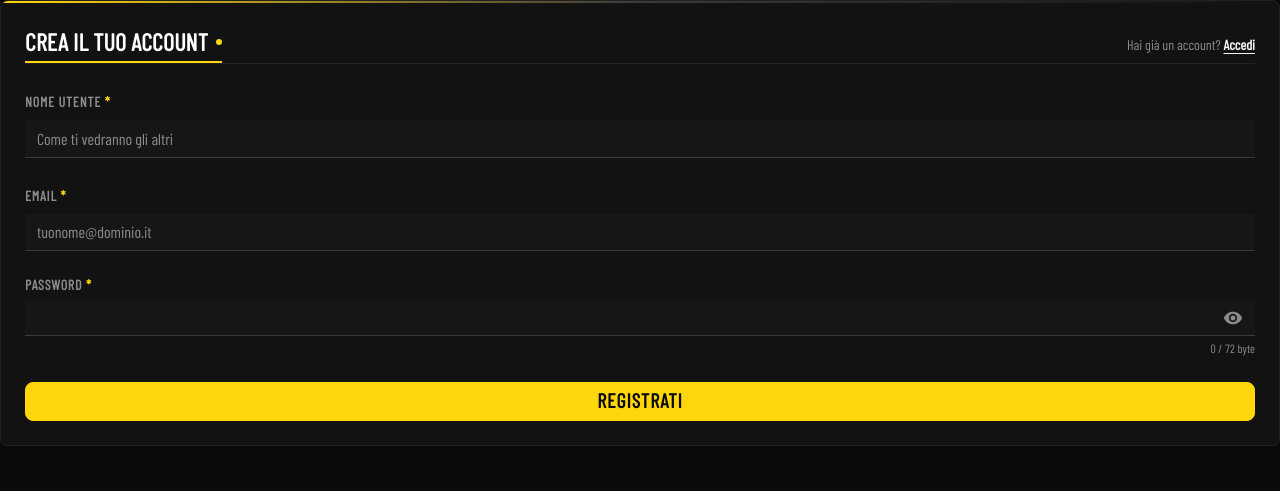
RegisterPage › un'emoji nel nome è bloccata: messaggio sotto il campo e nessuna richiesta
Type "Mario 🎸" into the field labelled "Nome utente" at (640,139), box [25,121,1255,158]
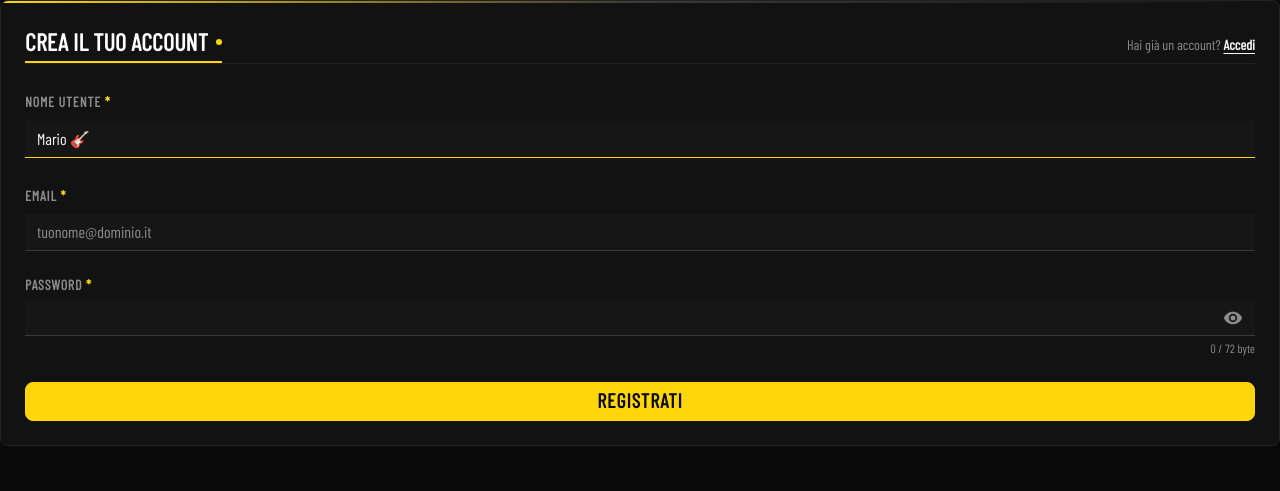
Type "mario@example.com" into the field labelled "Email" at (640,232), box [25,214,1255,251]
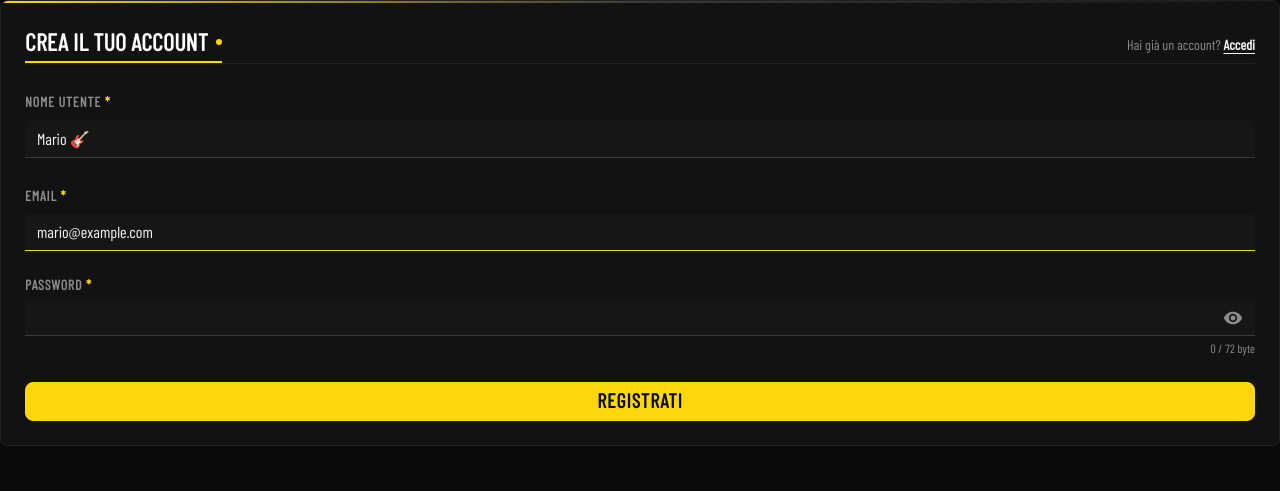
Type "password-lunga" into the password field labelled "Password" at (640,318), box [25,299,1255,336]
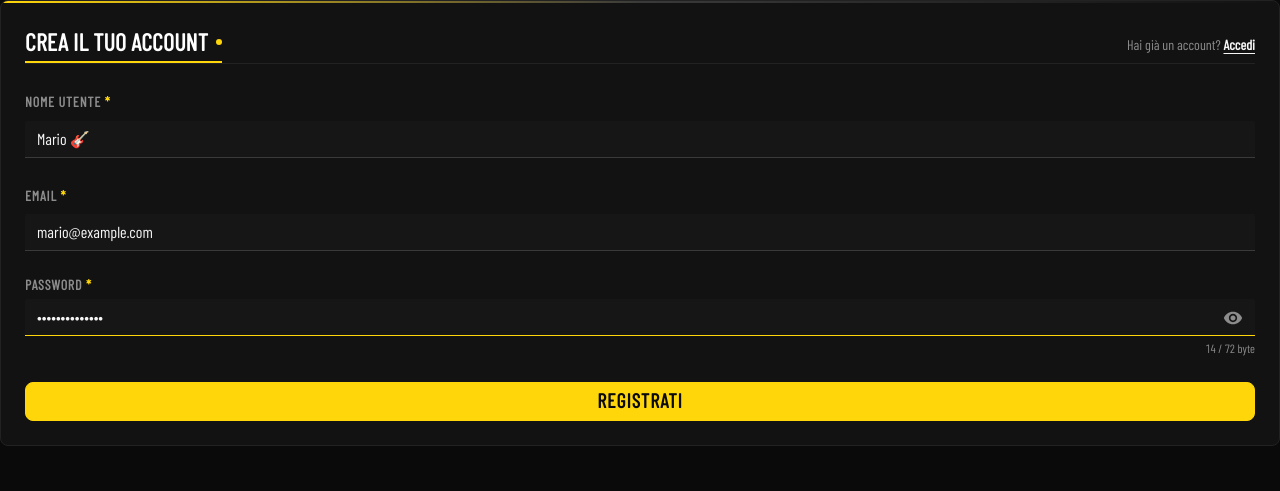
Click the button "Registrati" at (640,401), box [25,382,1255,421]
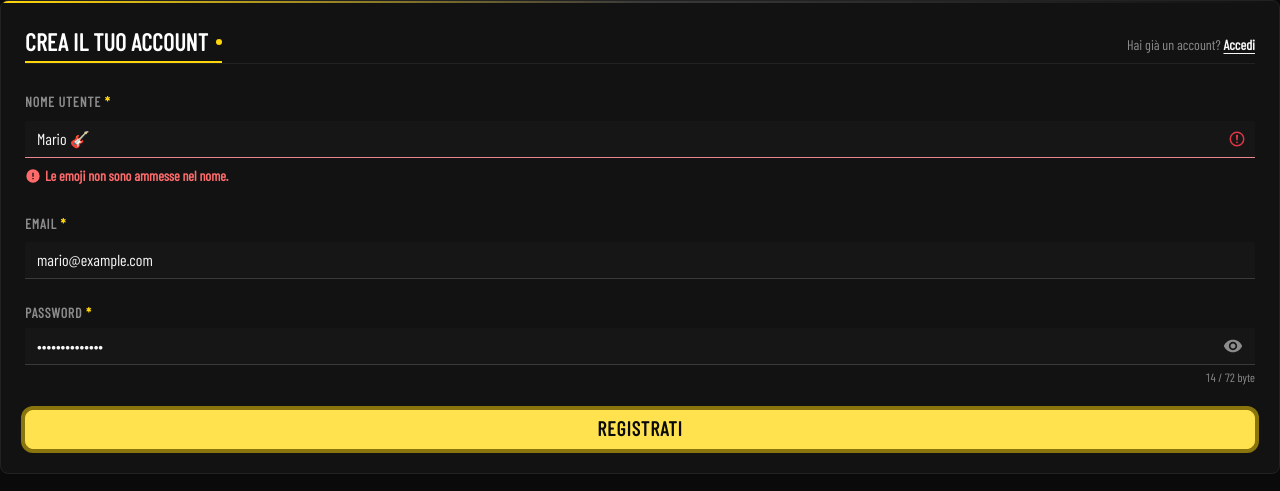
Expected: the text "Le emoji non sono ammesse nel nome." is shown, [45,166,228,186]
